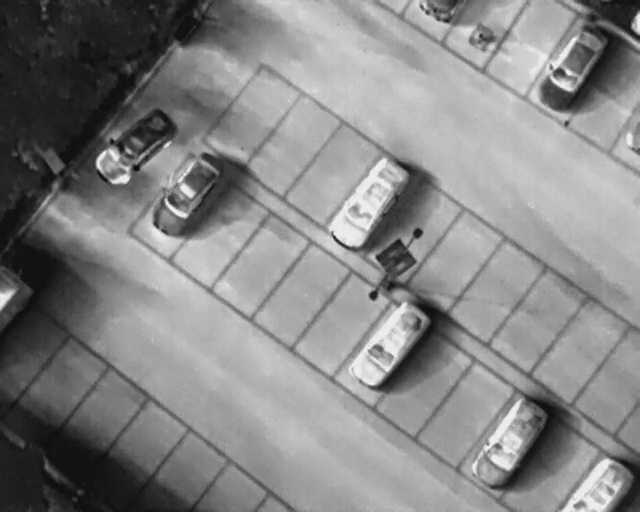Car: (141, 141, 239, 248), (464, 388, 555, 497), (322, 153, 416, 257), (344, 295, 438, 398), (528, 15, 616, 119), (86, 100, 182, 192), (548, 456, 636, 511)
